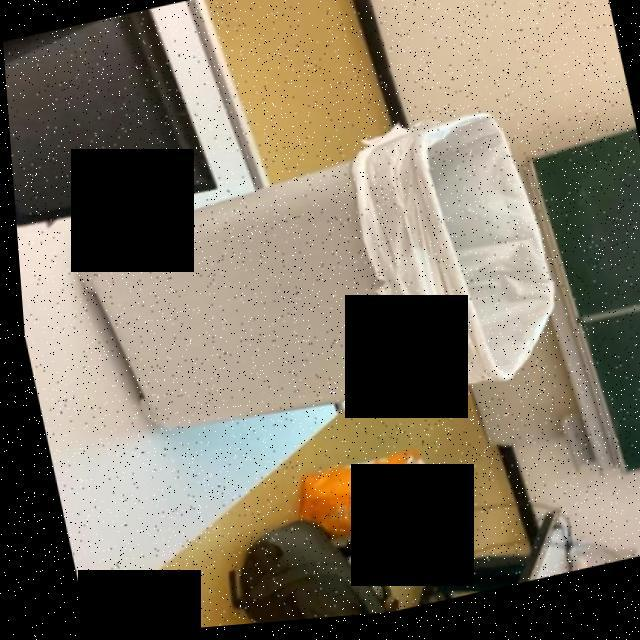bin: (37, 52, 640, 507)
